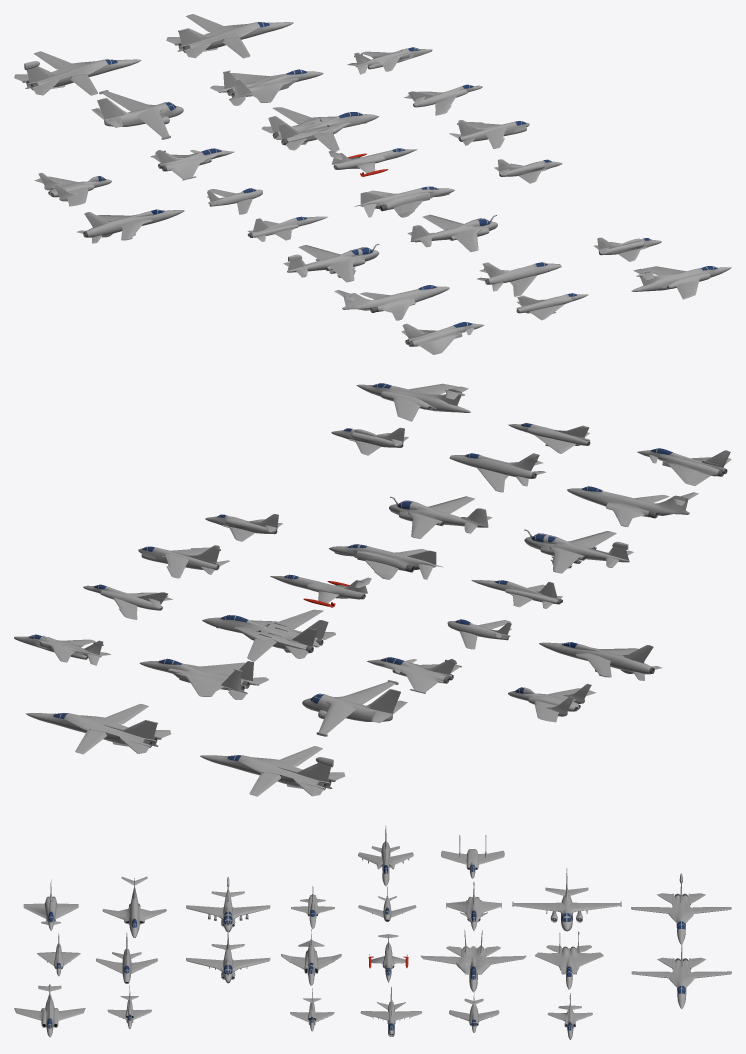
File: JetFighters.fbx
3 views of the same model, one above another, from view 1: azimuth 30°, elevation 25°; view 2: azimuth 150°, elevation 25°; view 3: azimuth 270°, elevation 25° (orthographic). The views are drawn at different scales.
Parts seen in each view (by area): view 1: s3_Viking, f15_eagle, f14_tomcat, ef_111_raven_fuselage, ea6b_prowler, f_111_aardvark_fuselage, buccaneer, f101_voodoo, a6e_intruder, fuselage.001, f4_phantom_II, eurofighter (+12 smaller); view 2: s3_Viking, f15_eagle, f14_tomcat, ef_111_raven_fuselage, ea6b_prowler, f_111_aardvark_fuselage, buccaneer, f101_voodoo, a6e_intruder, fuselage.001, f4_phantom_II, eurofighter (+12 smaller); view 3: s3_Viking, f15_eagle, ea6b_prowler, f14_tomcat, a6e_intruder, buccaneer, ef_111_raven_fuselage, f_111_aardvark_fuselage, f101_voodoo, f4_phantom_II, fuselage.001, eurofighter (+12 smaller).
Part boxes in pixels (left/top/right/bottom): s3_Viking: left=91, top=90, right=183, bottom=139; f15_eagle: left=210, top=69, right=323, bottom=105; f14_tomcat: left=262, top=112, right=379, bottom=150; ef_111_raven_fuselage: left=14, top=59, right=141, bottom=95; ea6b_prowler: left=283, top=243, right=379, bottom=282; f_111_aardvark_fuselage: left=166, top=22, right=293, bottom=57; buccaneer: left=631, top=266, right=731, bottom=299; f101_voodoo: left=334, top=285, right=449, bottom=320; a6e_intruder: left=407, top=214, right=497, bottom=252; fuselage.001: left=76, top=209, right=184, bottom=243; f4_phantom_II: left=354, top=186, right=454, bottom=217; eurofighter: left=401, top=322, right=484, bottom=354; s3_Viking: left=302, top=680, right=407, bottom=736; f15_eagle: left=139, top=658, right=268, bottom=699; f14_tomcat: left=202, top=615, right=335, bottom=658; ef_111_raven_fuselage: left=200, top=755, right=345, bottom=796; ea6b_prowler: left=524, top=529, right=633, bottom=573; f_111_aardvark_fuselage: left=26, top=713, right=171, bottom=753; buccaneer: left=356, top=383, right=470, bottom=421; f101_voodoo: left=567, top=486, right=698, bottom=526; a6e_intruder: left=389, top=496, right=492, bottom=538; fuselage.001: left=539, top=642, right=661, bottom=680; f4_phantom_II: left=329, top=544, right=443, bottom=579; eurofighter: left=637, top=448, right=731, bottom=485; s3_Viking: left=512, top=868, right=621, bottom=931; f15_eagle: left=535, top=931, right=603, bottom=989; ea6b_prowler: left=186, top=877, right=270, bottom=931; f14_tomcat: left=446, top=930, right=500, bottom=992; a6e_intruder: left=186, top=930, right=270, bottom=983; buccaneer: left=14, top=984, right=85, bottom=1037; ef_111_raven_fuselage: left=657, top=873, right=705, bottom=944; f_111_aardvark_fuselage: left=657, top=942, right=705, bottom=1008; f101_voodoo: left=102, top=876, right=166, bottom=937; f4_phantom_II: left=281, top=929, right=341, bottom=985; fuselage.001: left=358, top=825, right=413, bottom=886; eurofighter: left=23, top=879, right=78, bottom=930.
Bounding box in the file's own units: 8714 × 745 × 13729.
